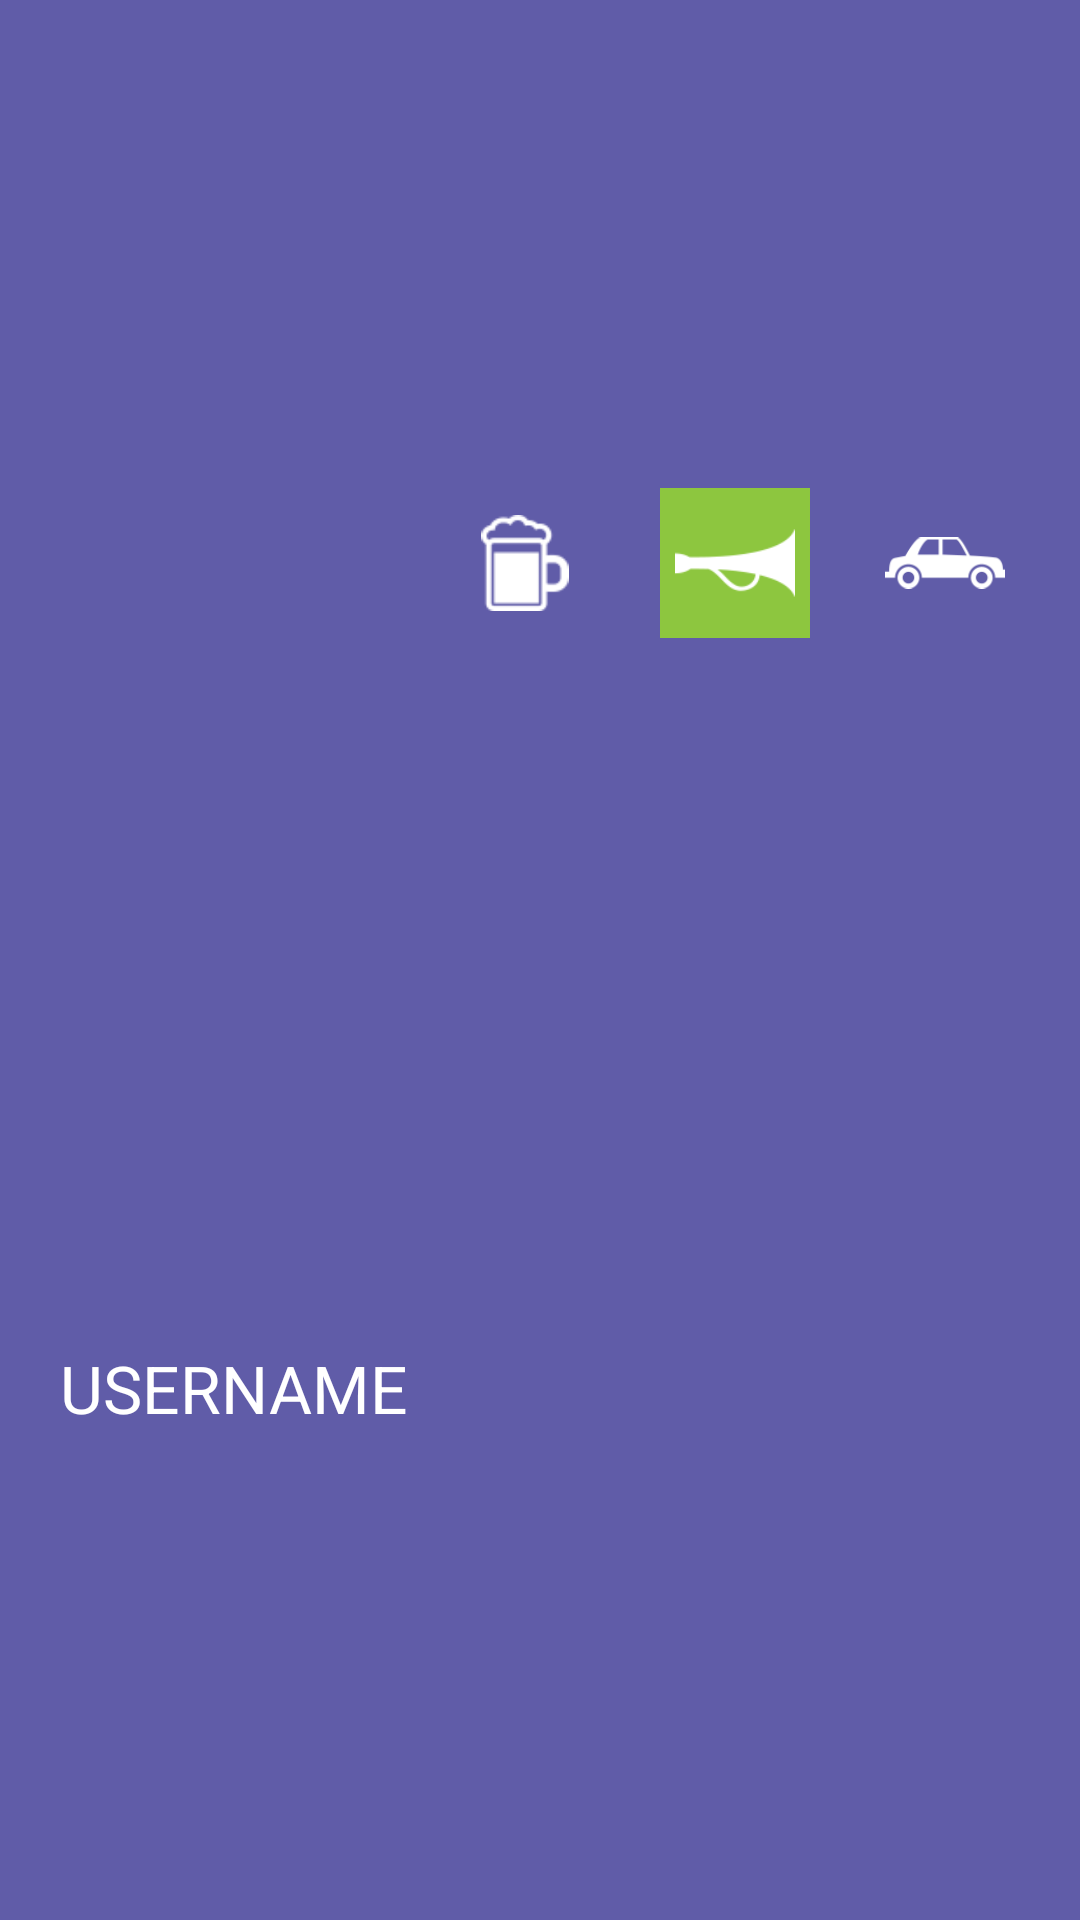

Named icons in this screenshot (1080×1920) and their bounding boxes, (x1, y1, x2, y2):
beer: (481, 515, 569, 611)
car: (885, 537, 1005, 589)
horn: (675, 529, 795, 597)
